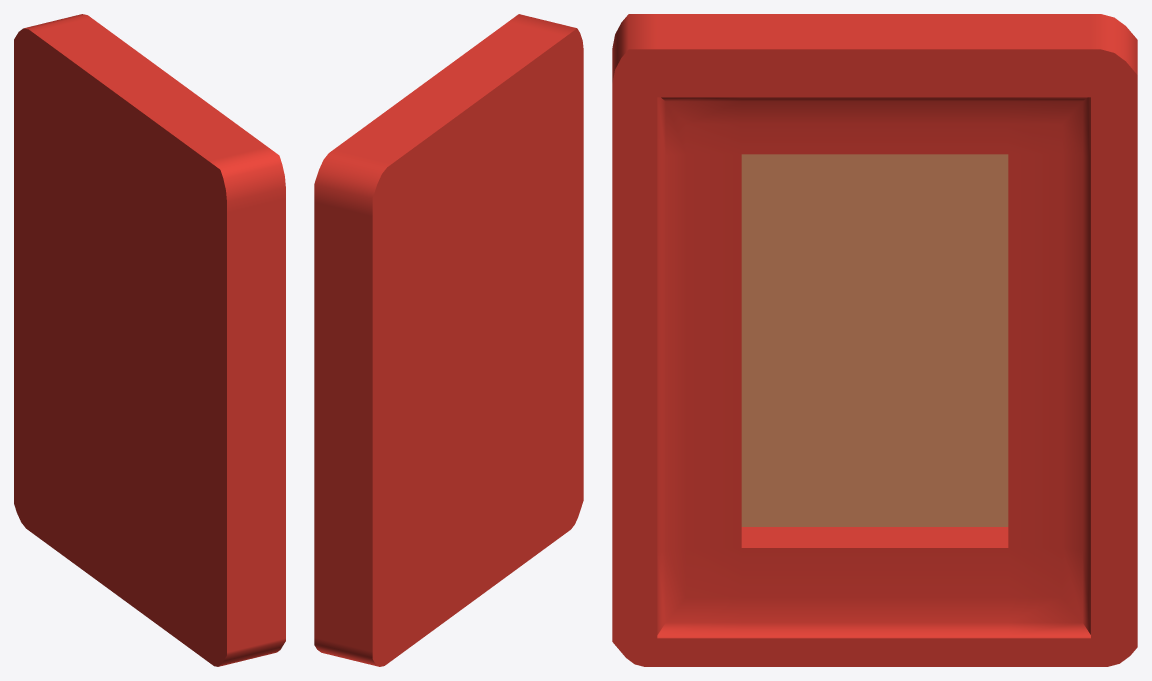
The model's file is Cuadro2.fbx.
3 renders of one model, left to right at view 1: azimuth 30°, elevation 25°; view 2: azimuth 150°, elevation 25°; view 3: azimuth 270°, elevation 25°, orthographic. The views are drawn at different scales.
Visible parts, largest first — view 1: Cube.001; view 2: Cube.001; view 3: Cube.001, Cube.004.
Boxes of the visible parts, <box> form: Cube.001: <box>14,14,285,666</box>; Cube.001: <box>314,14,583,666</box>; Cube.001: <box>612,14,1137,666</box>; Cube.004: <box>741,154,1008,526</box>.
Size of the model in its own units: 26.39 by 214 by 165.
